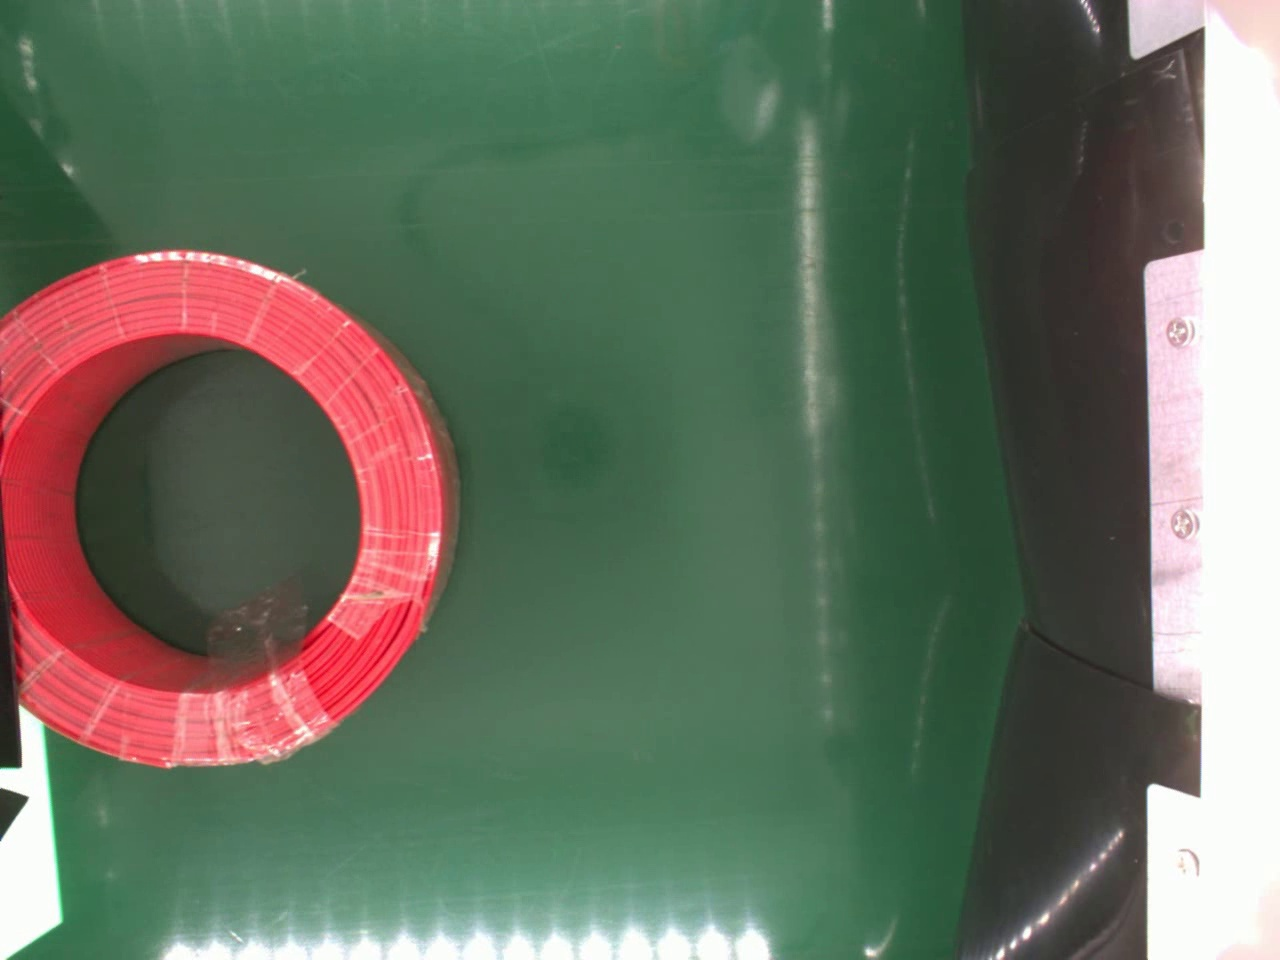red: (0, 248, 463, 773)
